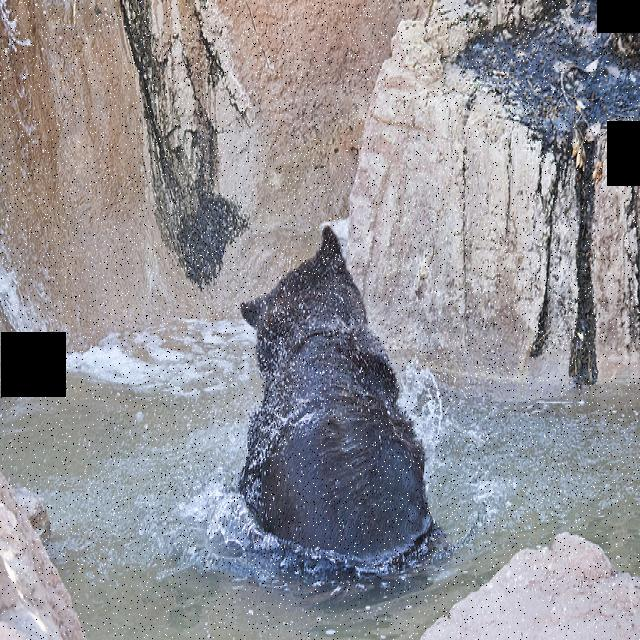Bear: (222, 236, 452, 586)
